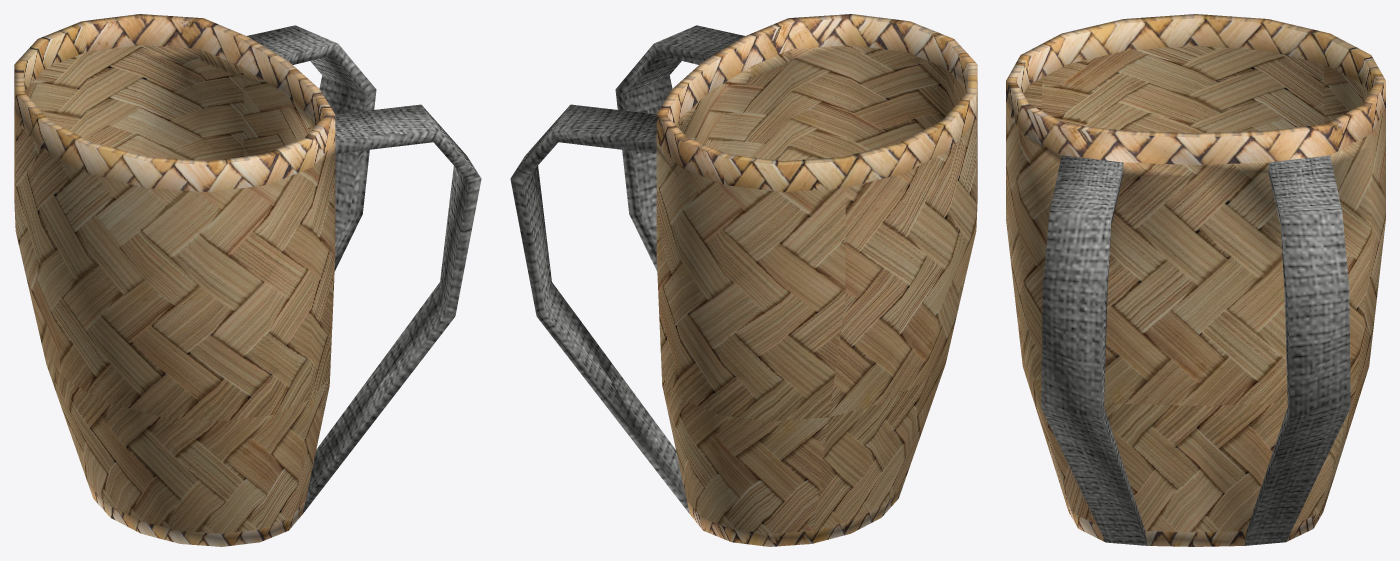
Rendered from BunderWood.fbx.
3 renders of one model, left to right at view 1: azimuth 30°, elevation 25°; view 2: azimuth 150°, elevation 25°; view 3: azimuth 270°, elevation 25°, orthographic.
Visible parts, largest first — view 1: Cylinder.006; view 2: Cylinder.006; view 3: Cylinder.006.
Boxes of the visible parts, box(x1,y1,x2,y2) form: Cylinder.006: box(14, 14, 481, 546); Cylinder.006: box(510, 14, 977, 546); Cylinder.006: box(1006, 14, 1385, 546).
Bounding box in the file's own units: 54.32 × 46.08 × 56.28.
Materials: 4 (4 with a texture image).
